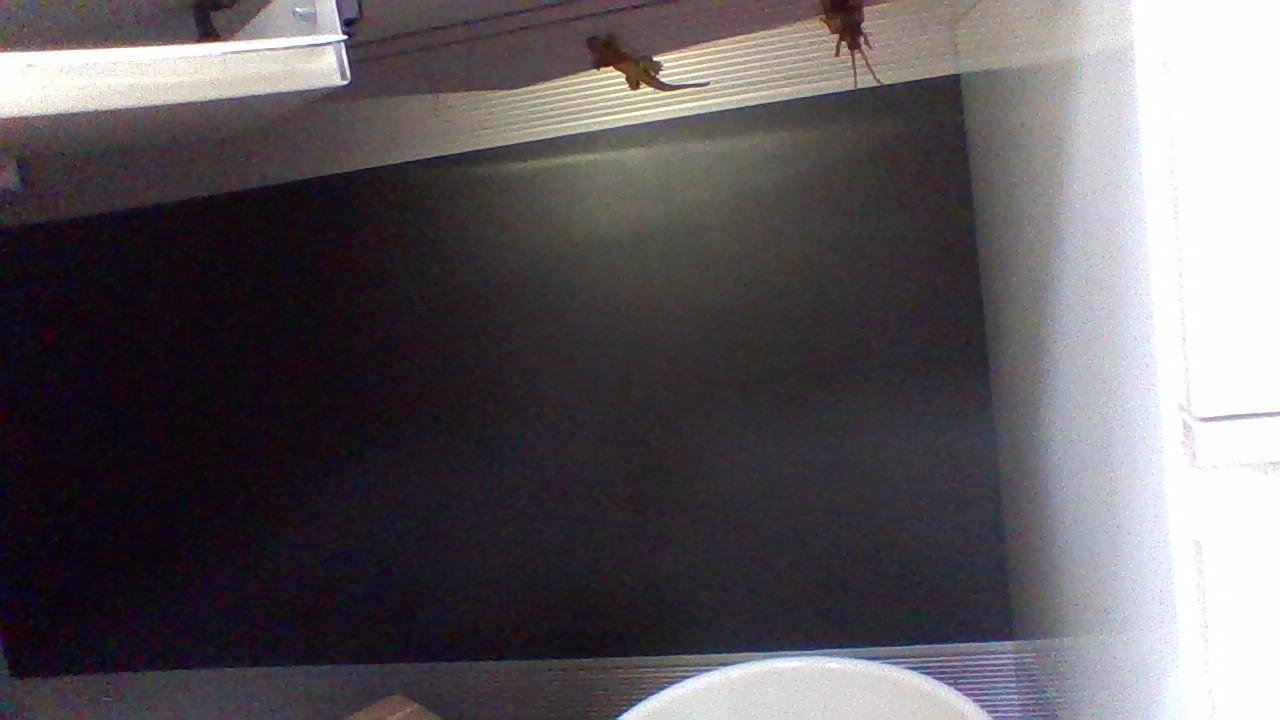cockroach: (797, 0, 902, 94)
lizard: (572, 23, 715, 113)
